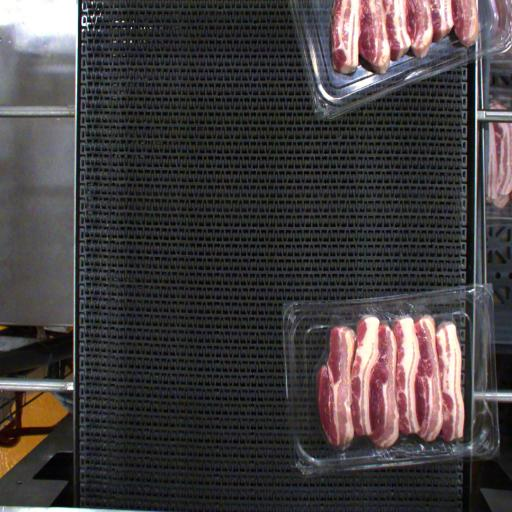unsealed: (310, 298, 461, 376)
